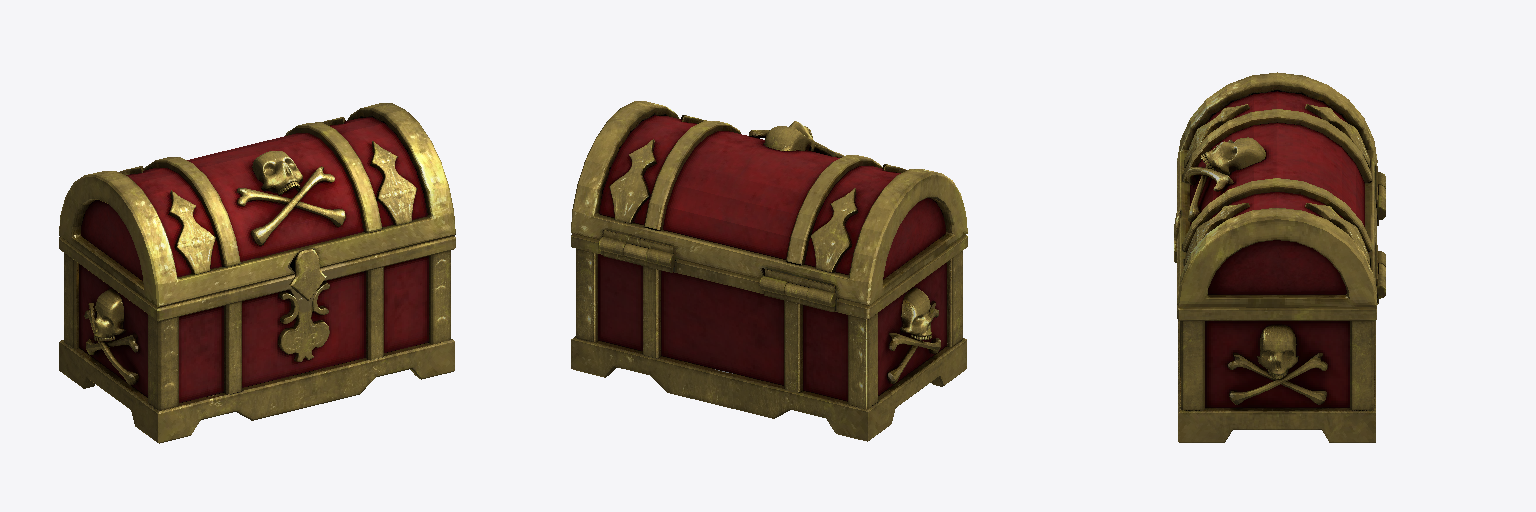
The picture shows the model from 3 angles: view 1: azimuth 30°, elevation 25°; view 2: azimuth 150°, elevation 25°; view 3: azimuth 270°, elevation 25°; orthographic projection.
Parts seen in each view (by area): view 1: Top_Cylinder, Bottom_Cube; view 2: Top_Cylinder, Bottom_Cube; view 3: Top_Cylinder, Bottom_Cube.
Boxes of the visible parts, x1,y1,x2,y2 form: Top_Cylinder: [59, 103, 455, 307]; Bottom_Cube: [59, 236, 455, 443]; Top_Cylinder: [571, 101, 967, 305]; Bottom_Cube: [571, 234, 967, 441]; Top_Cylinder: [1174, 72, 1385, 307]; Bottom_Cube: [1177, 167, 1385, 442].
Size of the model in its own units: 1.03 by 0.6999 by 0.5856.
Materials: 1 (1 with a texture image).